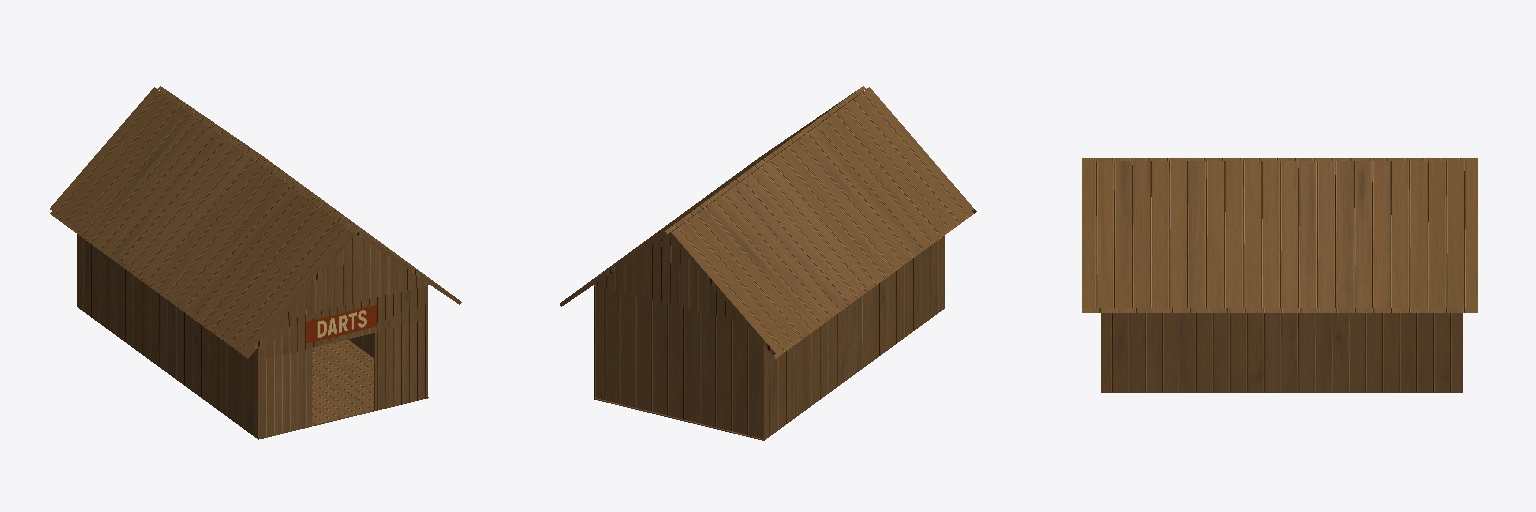
3 views of the same model, side by side, from view 1: azimuth 30°, elevation 25°; view 2: azimuth 150°, elevation 25°; view 3: azimuth 270°, elevation 25° (orthographic).
Parts seen in each view (by area): view 1: TechoI, ParedI, Rotulo, FrontonD, Piso, ParedDD, ParedDI, TechoD; view 2: TechoI, ParedT, ParedI, FrontonTT, TechoD; view 3: TechoD, ParedD, TechoI.
Boxes of the visible parts, <box> form: TechoI: <box>50,87,355,358</box>; ParedI: <box>77,234,258,438</box>; Rotulo: <box>259,285,427,360</box>; FrontonD: <box>281,226,429,320</box>; Piso: <box>258,340,428,439</box>; ParedDD: <box>374,320,427,410</box>; ParedDI: <box>259,348,311,438</box>; TechoD: <box>158,86,461,304</box>; TechoI: <box>668,87,976,358</box>; ParedT: <box>596,286,762,438</box>; ParedI: <box>763,236,944,440</box>; FrontonTT: <box>594,226,742,321</box>; TechoD: <box>560,86,865,306</box>; TechoD: <box>1082,161,1477,312</box>; ParedD: <box>1101,313,1462,391</box>; TechoI: <box>1082,158,1477,160</box>.
Size of the model in its own units: 24.87 by 20.96 by 38.94.
2 materials, 2 textured.